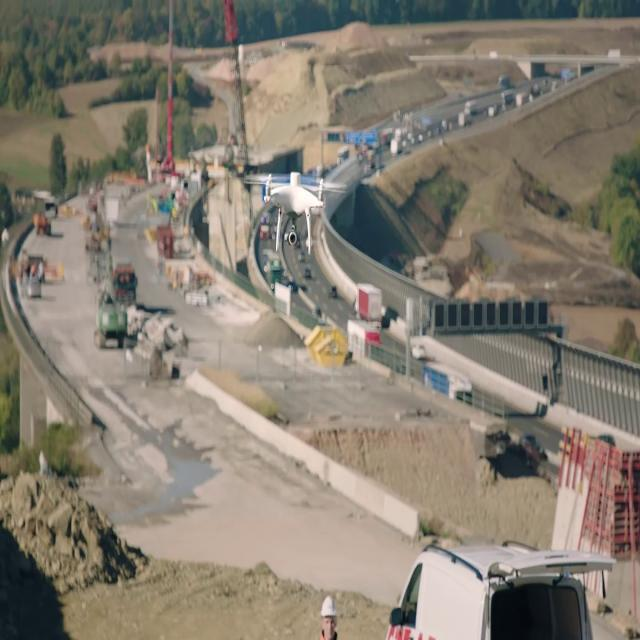drone: (243, 168, 347, 253)
